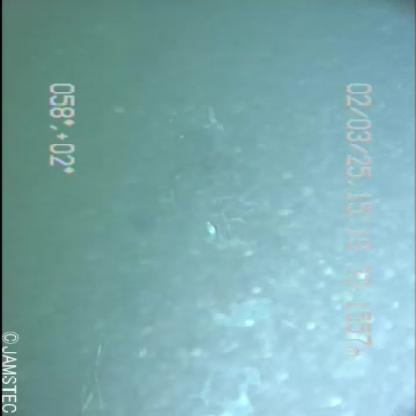Rác: (195, 363, 278, 415), (204, 287, 278, 339)
